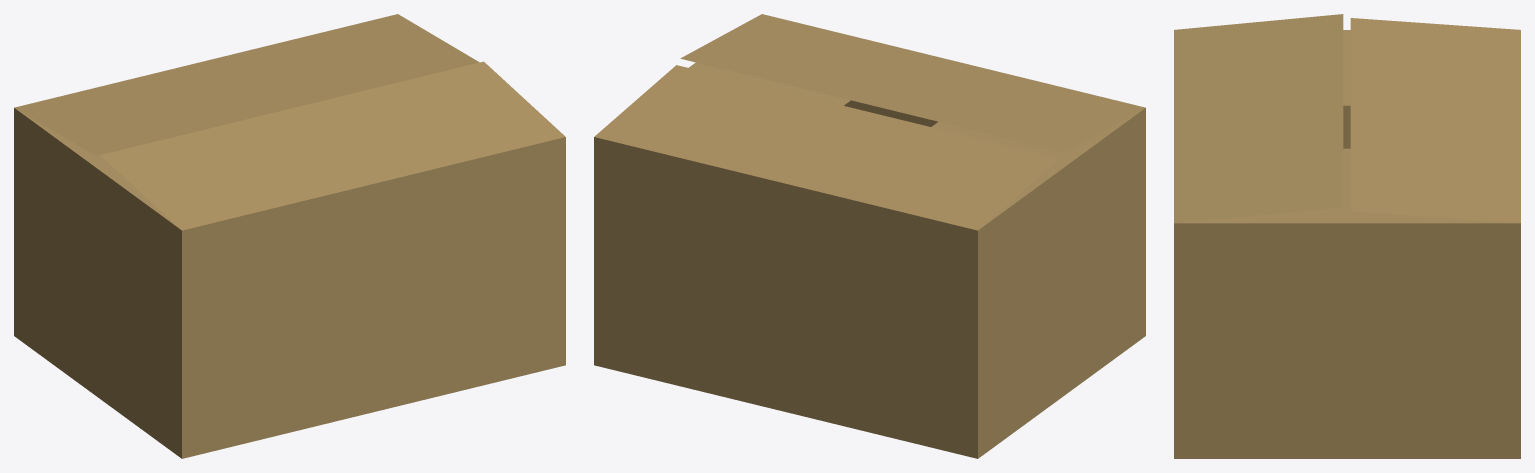
File: CardboardBox.fbx
3 renders of one model, left to right at view 1: azimuth 30°, elevation 25°; view 2: azimuth 150°, elevation 25°; view 3: azimuth 270°, elevation 25°, orthographic. The views are drawn at different scales.
Visible parts, largest first — view 1: Cube.001; view 2: Cube.001; view 3: Cube.001.
Boxes of the visible parts, left/top/right/bottom form: Cube.001: left=14, top=14, right=565, bottom=458; Cube.001: left=594, top=14, right=1145, bottom=458; Cube.001: left=1174, top=14, right=1520, bottom=458.
Size of the model in its own units: 106 by 64.05 by 80.
